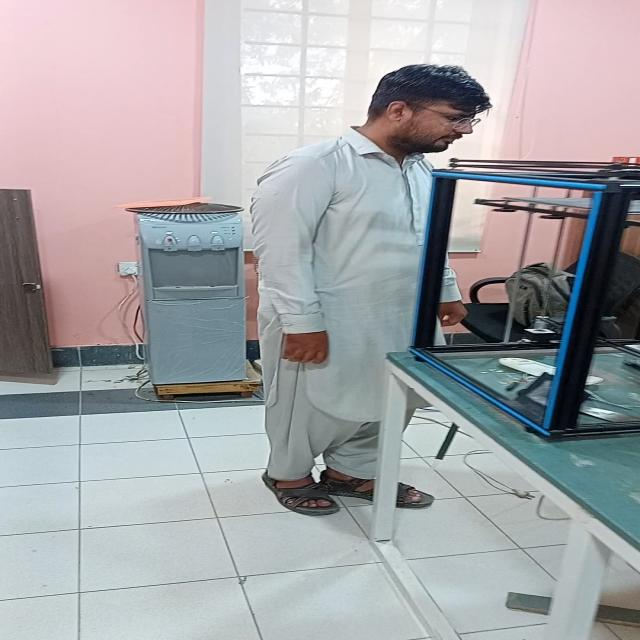dress: (248, 127, 436, 483)
